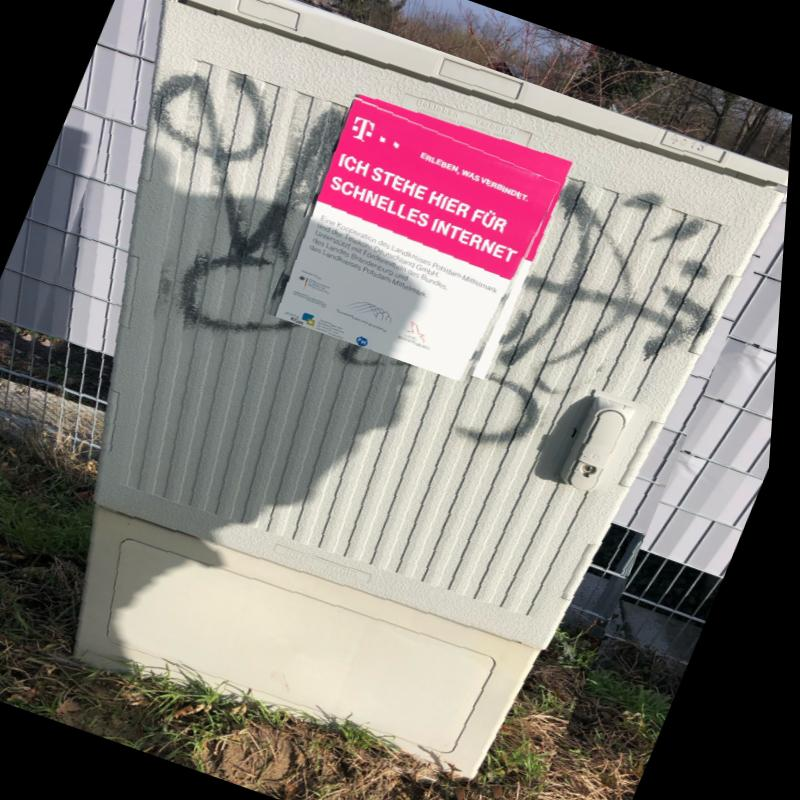NT-Gehause: (68, 0, 791, 793)
Steaker: (266, 96, 572, 388)
